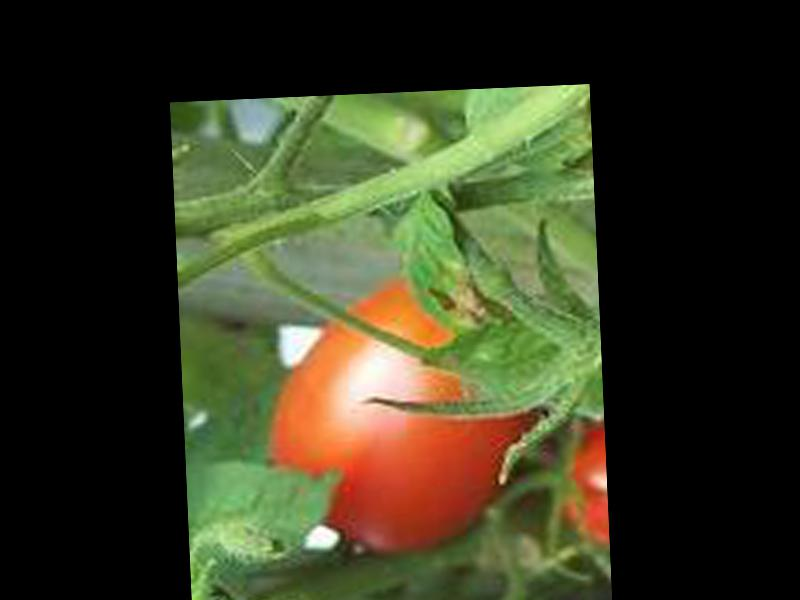Tomato: (261, 279, 530, 556)
